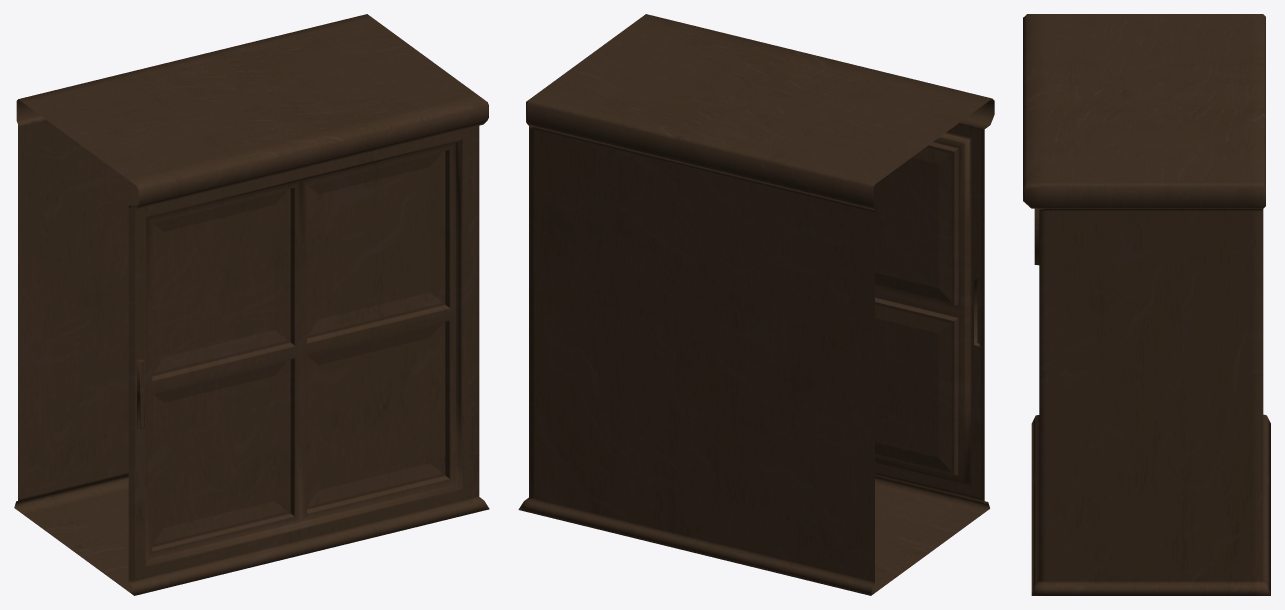
Rendered from floor_cabinet_rich.glb.
3 renders of one model, left to right at view 1: azimuth 30°, elevation 25°; view 2: azimuth 150°, elevation 25°; view 3: azimuth 270°, elevation 25°, orthographic.
Visible parts, largest first — view 1: FloorCabinetRich; view 2: FloorCabinetRich; view 3: FloorCabinetRich.
Boxes of the visible parts, <box> form: FloorCabinetRich: <box>14,14,489,595</box>; FloorCabinetRich: <box>518,14,994,595</box>; FloorCabinetRich: <box>1023,14,1270,595</box>.
Bounding box in the file's own units: 0.5585 × 0.6182 × 0.3391.
2 materials, 2 textured.
